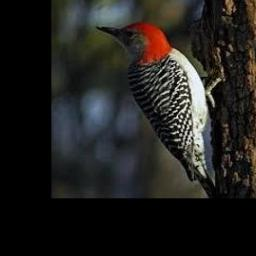Woodpecker: (96, 21, 220, 198)
